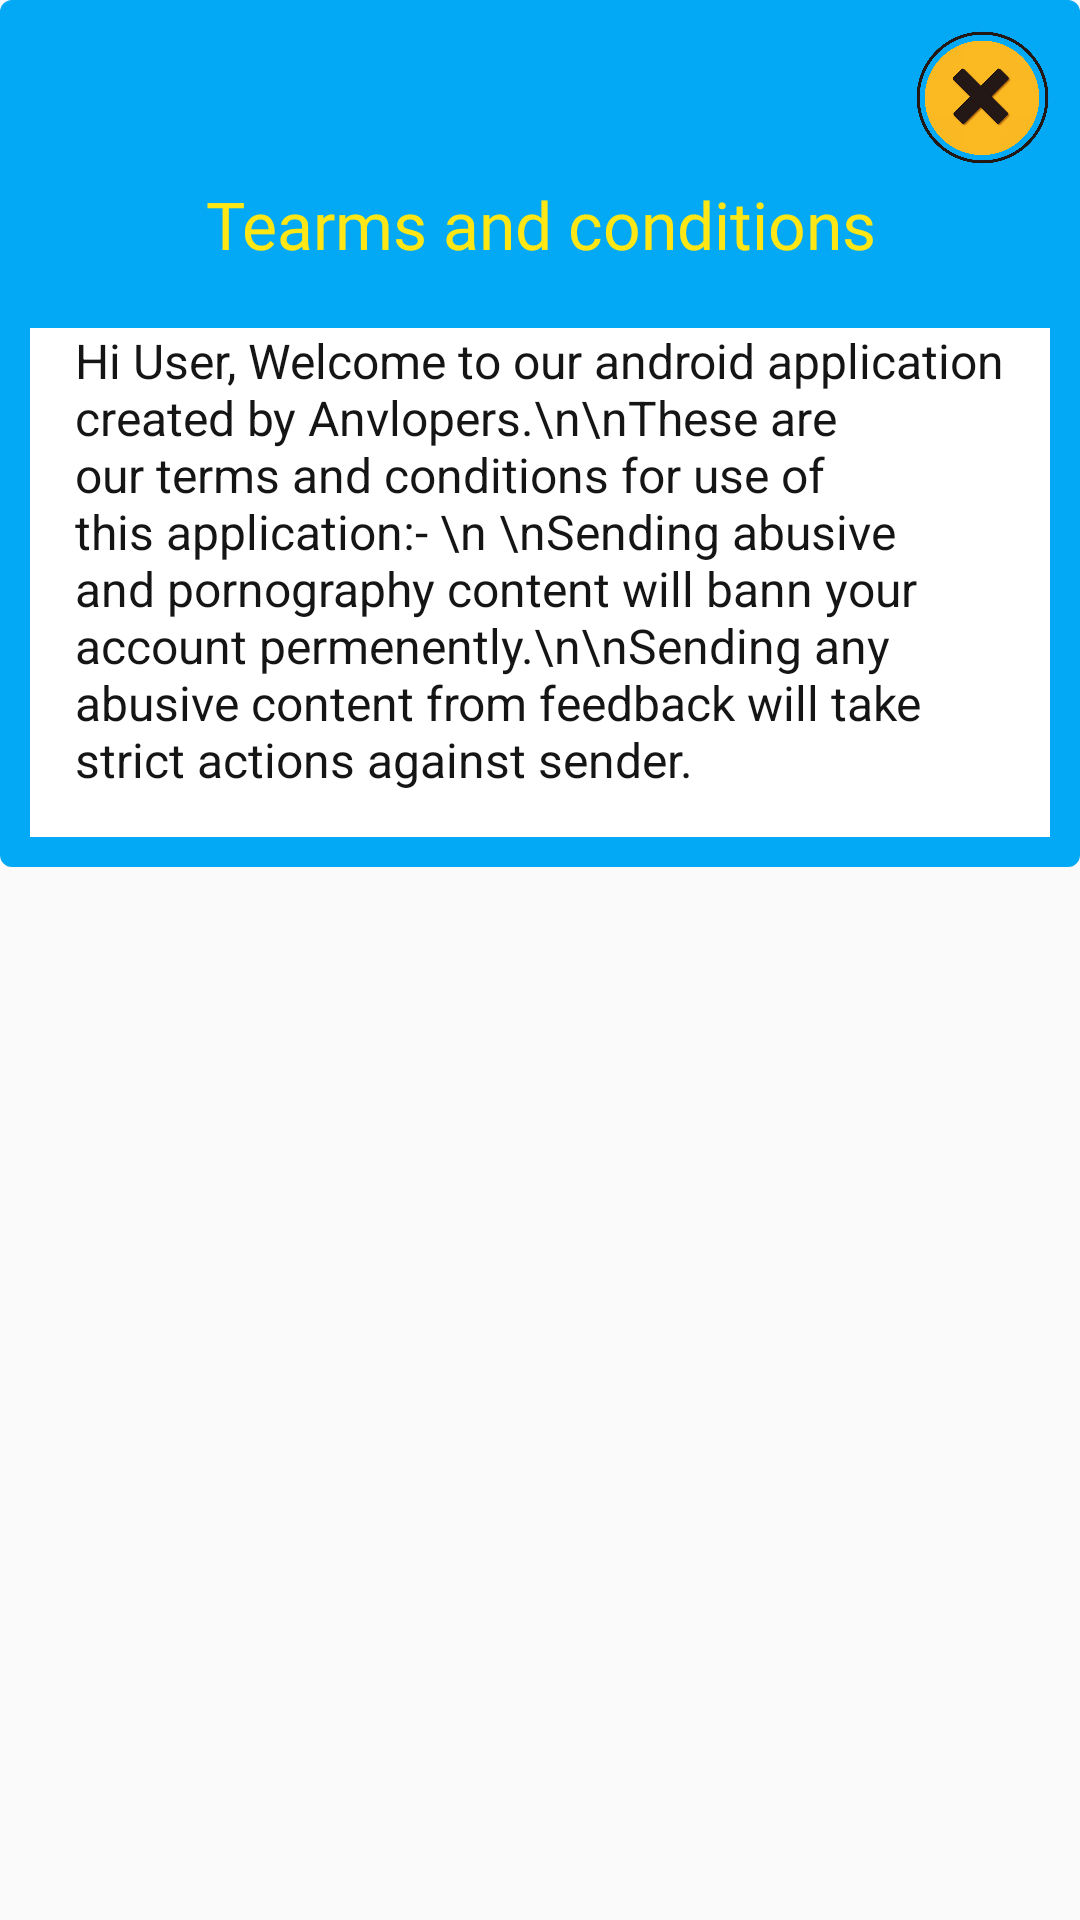

Point at icon controls on the screen. Image size 1080w x 1920h, points as point (x, y).
backbutton: point (982, 97)
